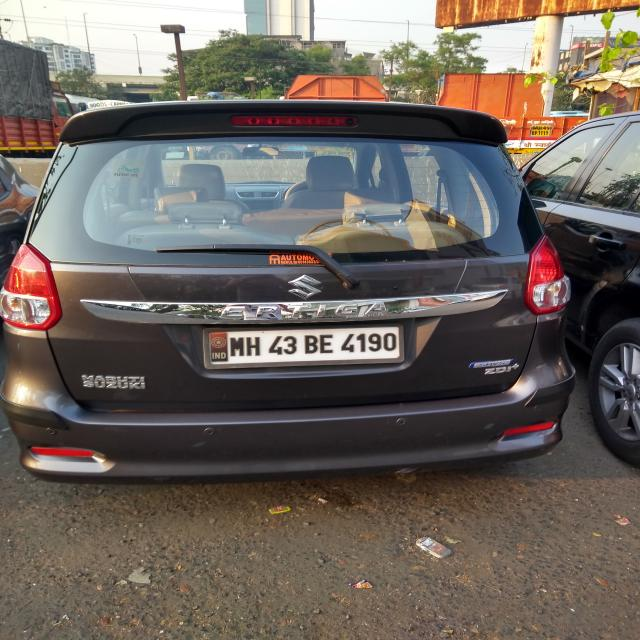Number-Plate: (200, 326, 408, 364)
